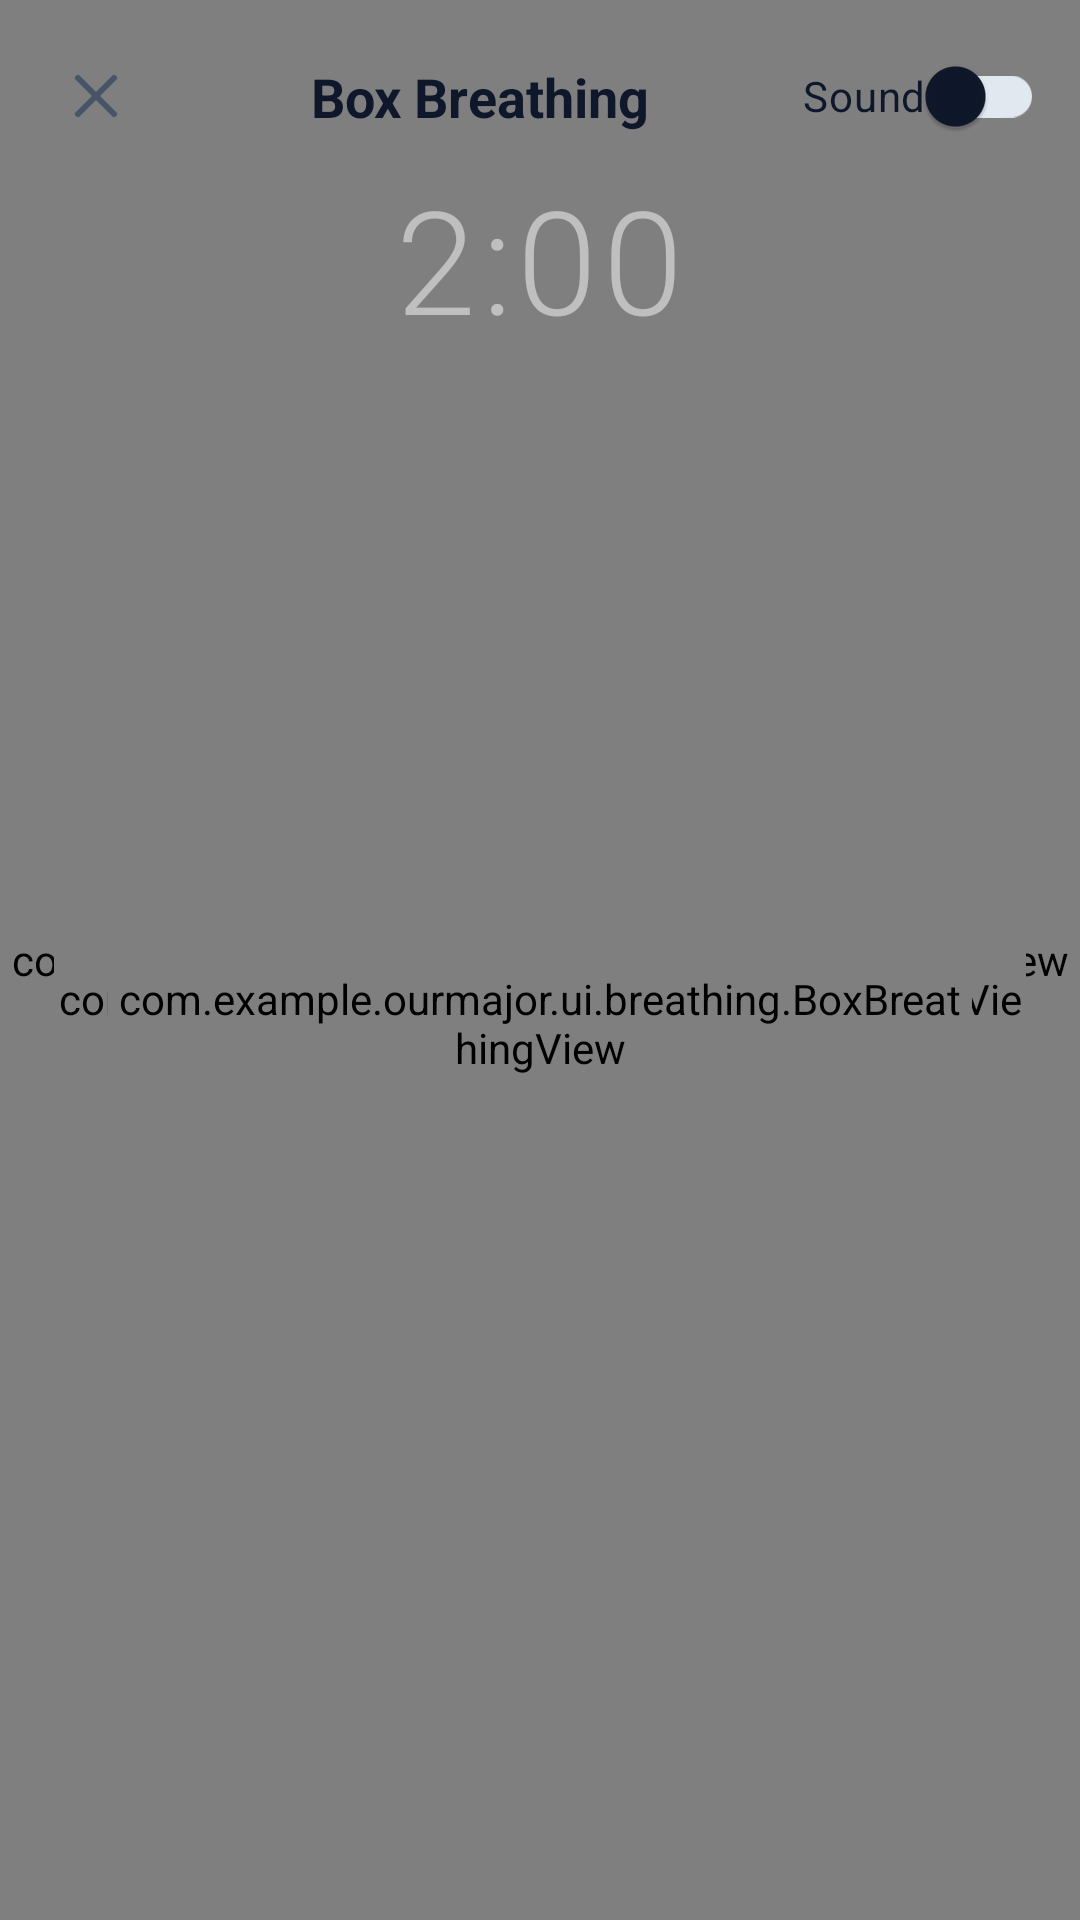

Icons on this 1080px×1920px Android screen, each with its box as rect(x1, y1, x2, y2):
close: rect(75, 75, 117, 117)
